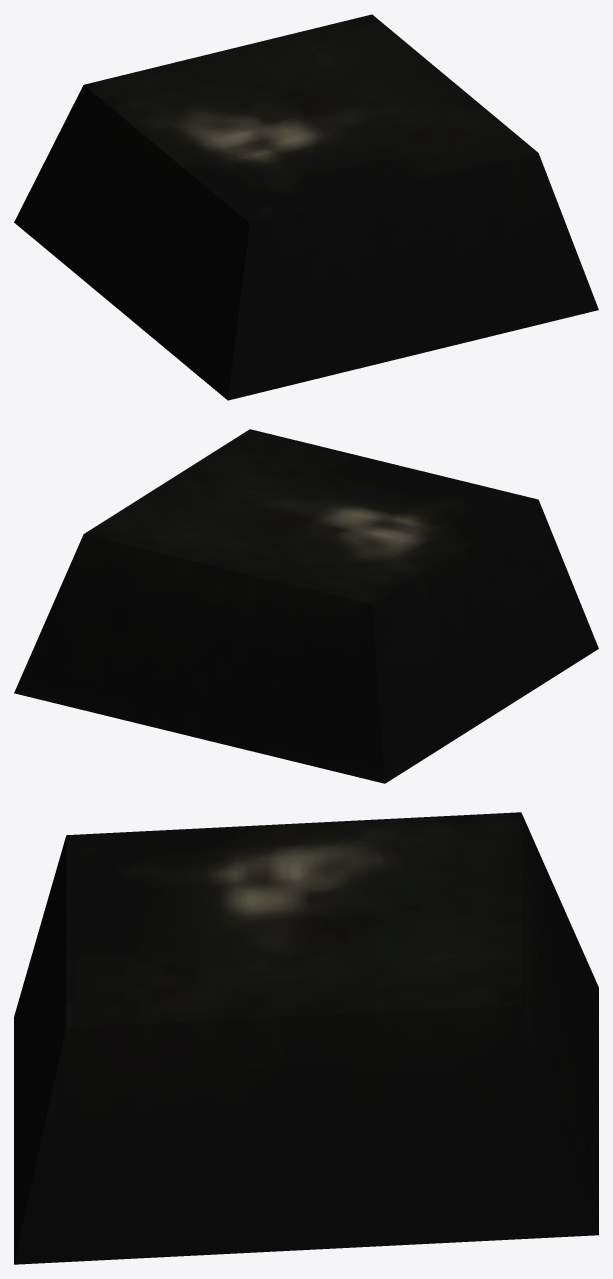
The model's file is link_13__key-19.glb.
3 renders of one model, top to bottom at view 1: azimuth 30°, elevation 25°; view 2: azimuth 150°, elevation 25°; view 3: azimuth 270°, elevation 25°, orthographic. The views are drawn at different scales.
Visible parts, largest first — view 1: geometry_0; view 2: geometry_0; view 3: geometry_0.
Boxes of the visible parts, x1,y1,x2,y2 form: geometry_0: (14,14,598,400); geometry_0: (14,429,598,783); geometry_0: (14,812,598,1264).
Size of the model in its own units: 0.0719 by 0.0315 by 0.0718.
1 material, 1 textured.
